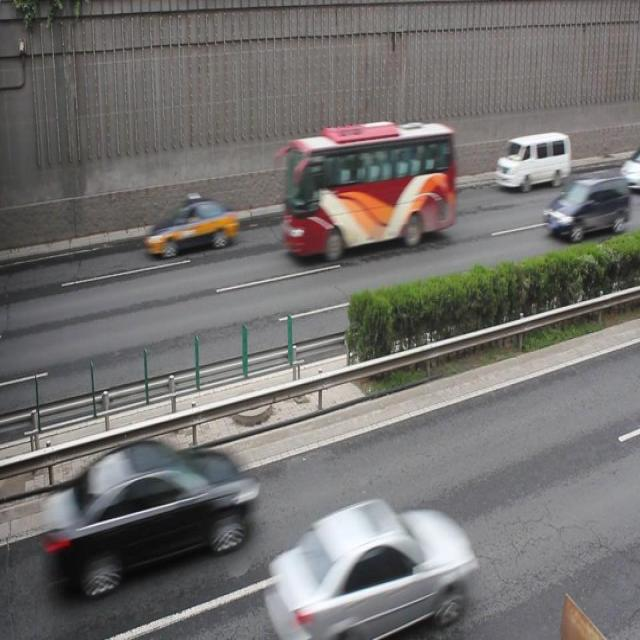car: (46, 436, 252, 594), (264, 494, 473, 640), (146, 196, 239, 259)
truck: (542, 171, 631, 240), (493, 132, 569, 189)
van: (281, 120, 454, 252)
